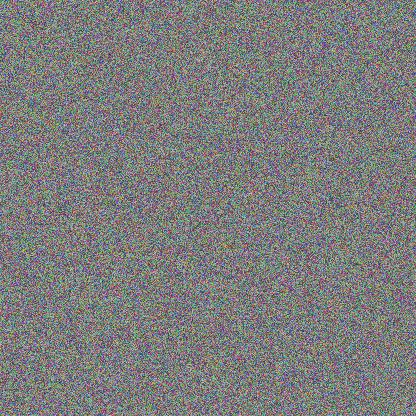empty: (73, 175, 117, 248)
